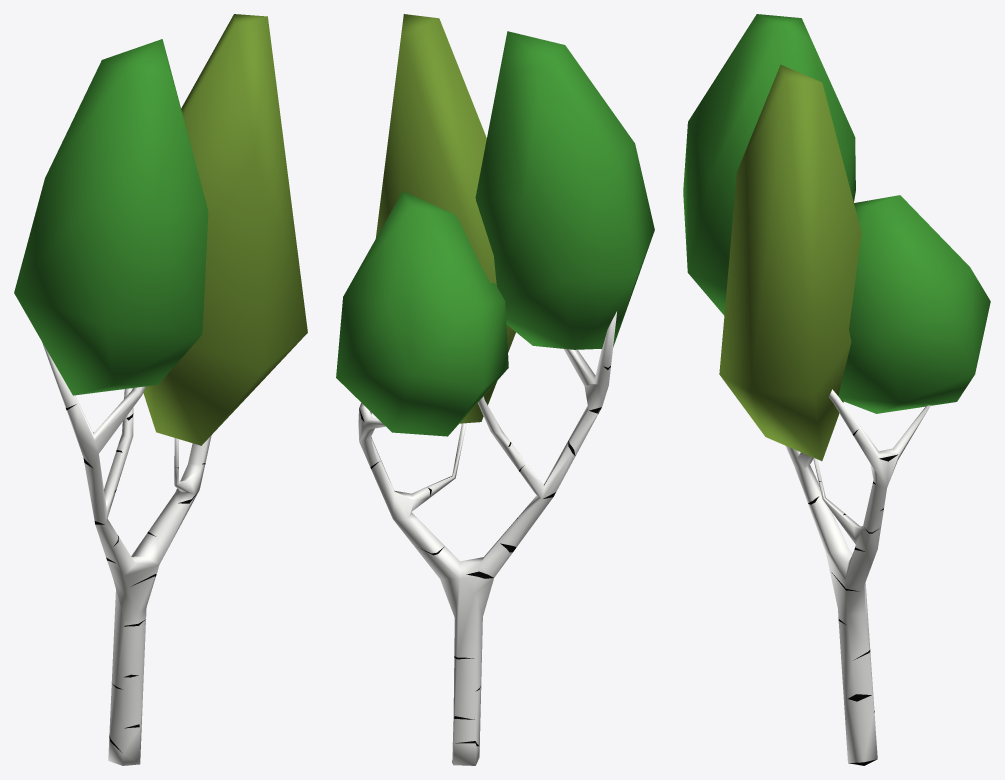
File: Birch.fbx
3 views of the same model, side by side, from view 1: azimuth 30°, elevation 25°; view 2: azimuth 150°, elevation 25°; view 3: azimuth 270°, elevation 25° (orthographic). The views are drawn at different scales.
Visible parts, largest first — view 1: Icosphere, Icosphere.002, Vert.001; view 2: Icosphere, Icosphere.001, Vert.001, Icosphere.002; view 3: Icosphere.002, Icosphere.001, Icosphere, Vert.001.
Boxes of the visible parts, bbox=[...] form: Icosphere: bbox=[14, 39, 208, 395]; Icosphere.002: bbox=[143, 14, 307, 445]; Vert.001: bbox=[42, 342, 211, 765]; Icosphere: bbox=[475, 31, 654, 349]; Icosphere.001: bbox=[336, 191, 508, 436]; Vert.001: bbox=[358, 311, 616, 765]; Icosphere.002: bbox=[375, 14, 515, 423]; Icosphere.002: bbox=[719, 64, 861, 460]; Icosphere.001: bbox=[838, 195, 990, 413]; Icosphere: bbox=[683, 14, 855, 315]; Vert.001: bbox=[786, 389, 930, 765].
Bounding box in the file's own units: 444 × 1156 × 440.
Materials: 1 (1 with a texture image).
